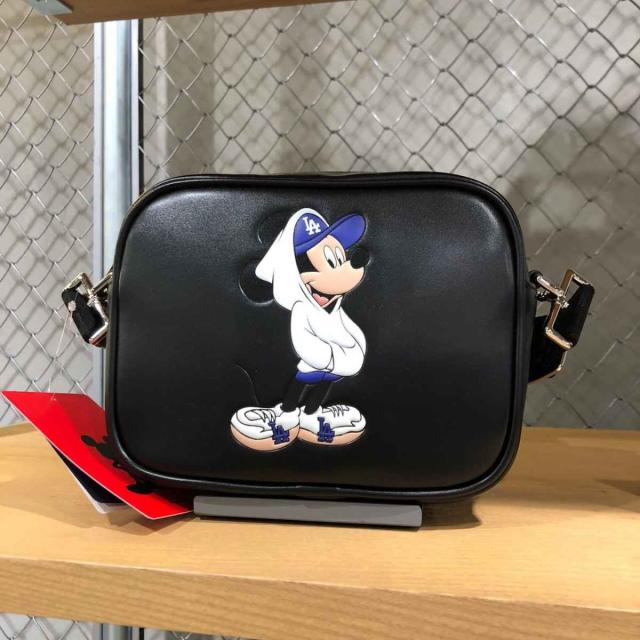Handbag: (105, 164, 535, 502)
